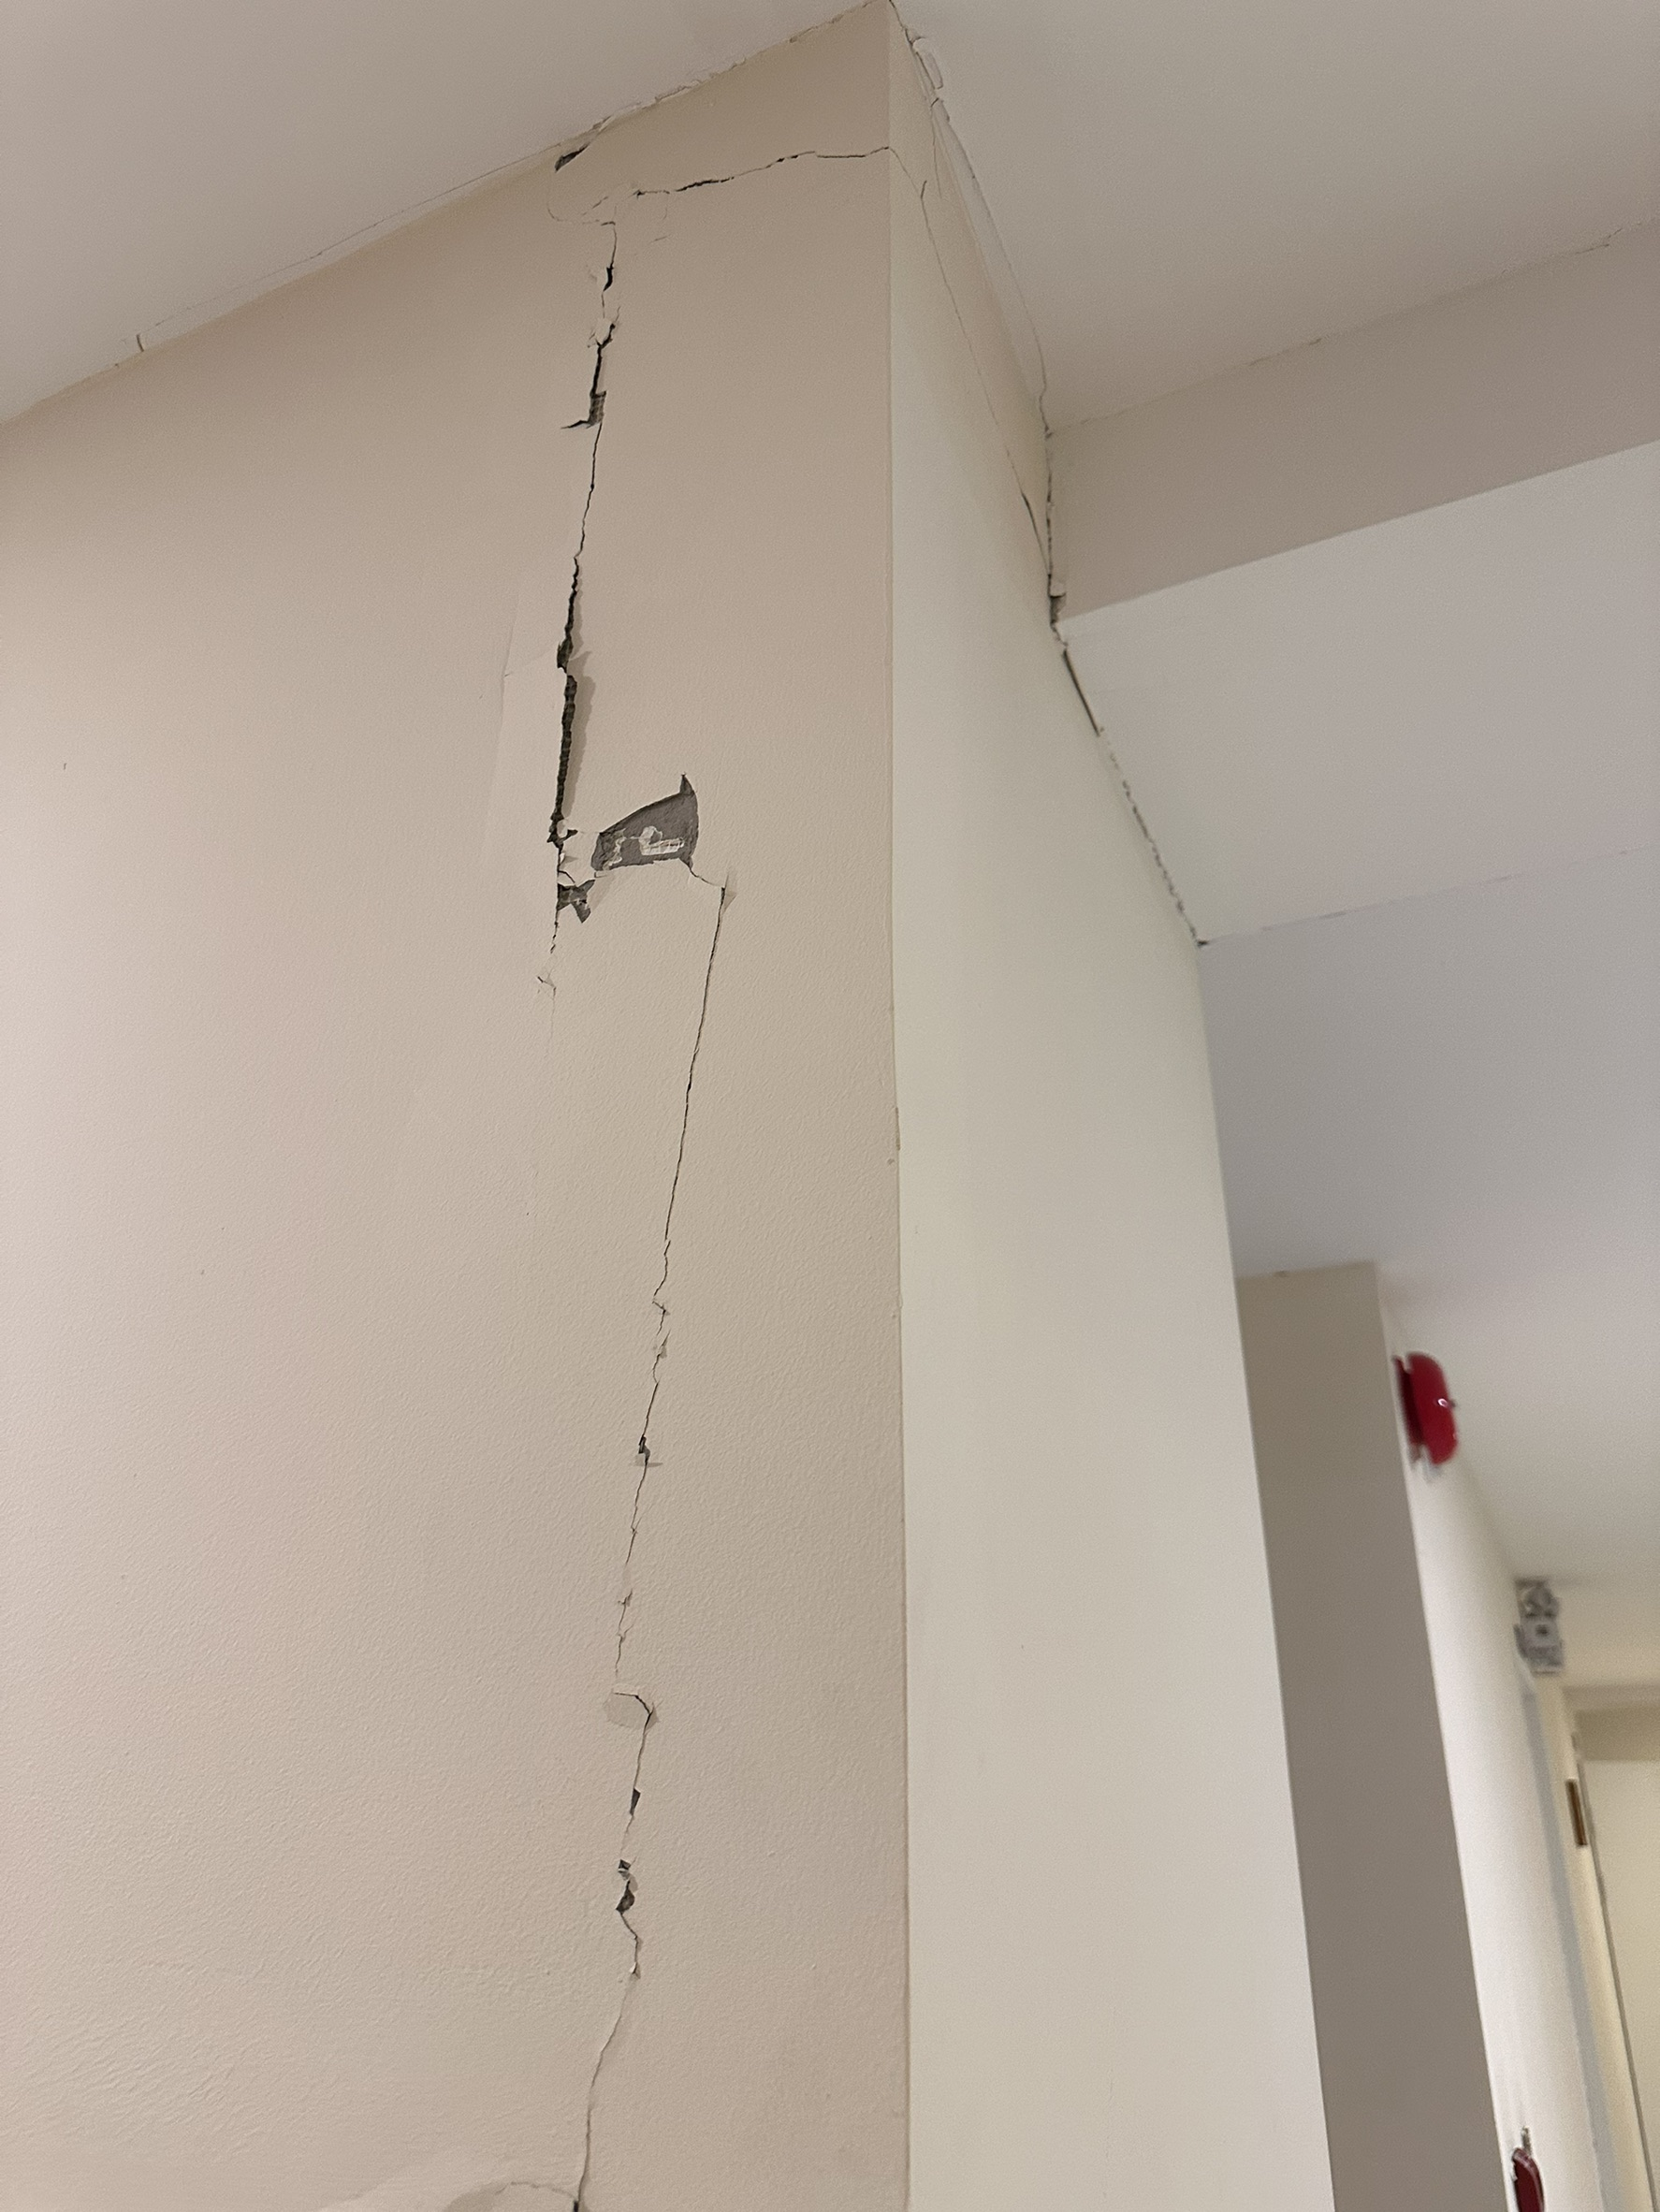Low: (377, 92, 1076, 2212)
